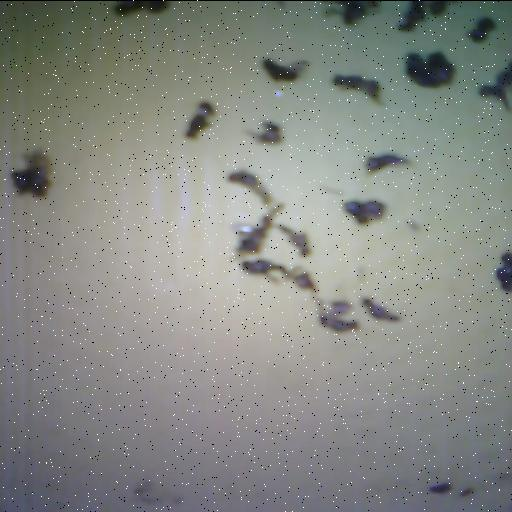Insects: (233, 203, 284, 257), (11, 150, 51, 197), (406, 52, 454, 87), (227, 170, 272, 205), (314, 297, 358, 331), (333, 75, 382, 103), (324, 1, 378, 24), (241, 259, 289, 282), (133, 481, 182, 503), (262, 58, 308, 81), (276, 225, 310, 256), (343, 200, 385, 224), (186, 102, 214, 138), (362, 297, 400, 321), (114, 0, 170, 16), (478, 84, 511, 110), (366, 153, 409, 172), (248, 121, 281, 143), (467, 17, 495, 42), (289, 266, 315, 291), (429, 482, 452, 493), (459, 487, 474, 496)
